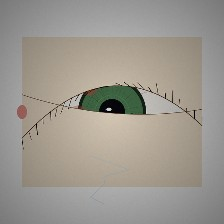foreign_body_visible: (53, 96, 103, 136)
